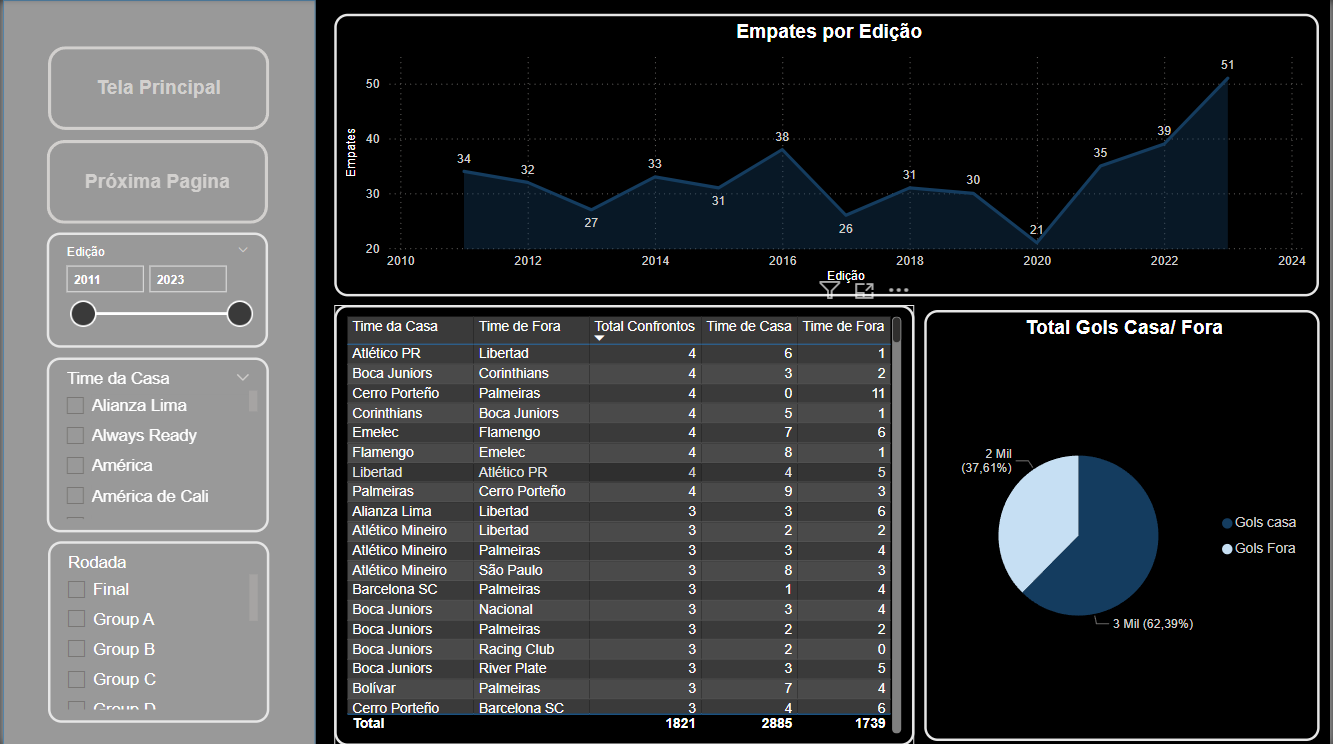

What the dashboard file says about the page in this screenshot:
{"tool":"powerbi","page":{"name":"Página 2","canvas":[1280,720],"ordinal":1},"visuals":[{"type":"pieChart","title":"Total Gols Casa/ Fora","fields":{"Y":["Medidas.Gols casa","Medidas.Gols Fora"]},"box":[889.1,299.2,381.2,416.2],"z":0},{"type":"areaChart","fields":{"Category":["libertadores-results-ds.Edição"],"Y":["Medidas.Empates"]},"box":[319.7,13.3,950.7,272.7],"z":1000},{"type":"tableEx","fields":{"Values":["libertadores-results-ds.Time da Casa","libertadores-results-ds.Time de Fora","Medidas.Total Confrontos","Sum(libertadores-results-ds.Placar Time de Casa)","Sum(libertadores-results-ds.Placar Time de Fora)"]},"box":[319.7,294.4,559.8,425.9],"z":2000},{"type":"shape","box":[0,0,301.6,720.2],"z":3000},{"type":"slicer","fields":{"Values":["libertadores-results-ds.Edição"]},"box":[42.2,224.4,213.5,111],"z":4000},{"type":"slicer","fields":{"Values":["libertadores-results-ds.Rodada"]},"box":[43.4,522.4,213.5,174.9],"z":5000},{"type":"slicer","fields":{"Values":["libertadores-results-ds.Time da Casa"]},"box":[42.2,344.4,214.7,168.9],"z":6000},{"type":"actionButton","title":"Princial","box":[43.4,44.6,213.5,80.8],"z":7000},{"type":"actionButton","title":"Princial","box":[42.2,134.5,213.5,80.8],"z":8000}]}

Visuals, with their boxes in screenshot pixels (x1, y1, x2, y2):
"Total Gols Casa/ Fora" pieChart: BBox(929, 304, 1317, 728)
areaChart - libertadores-results-ds.Edição x Medidas.Empates: BBox(350, 14, 1317, 291)
tableEx - libertadores-results-ds.Time da Casa x libertadores-results-ds.Time de Fora: BBox(350, 300, 919, 733)
shape: BBox(24, 0, 331, 733)
slicer - libertadores-results-ds.Edição: BBox(67, 228, 284, 341)
slicer - libertadores-results-ds.Rodada: BBox(68, 532, 286, 710)
slicer - libertadores-results-ds.Time da Casa: BBox(67, 350, 286, 522)
"Princial" actionButton: BBox(68, 45, 286, 128)
"Princial" actionButton: BBox(67, 137, 284, 219)
